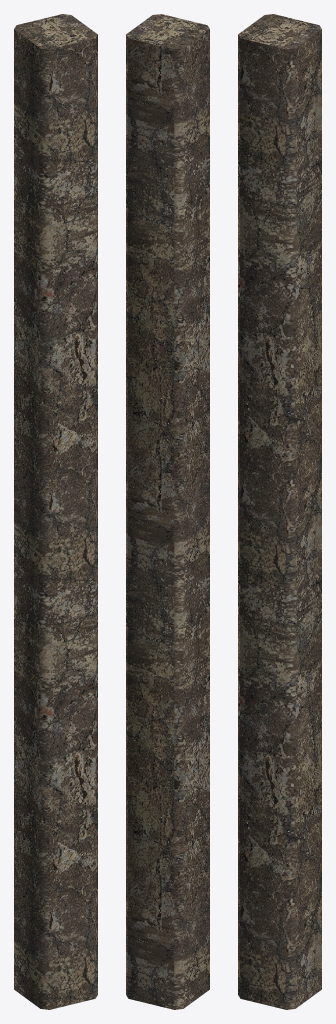
File: factory_concrete_pillar.DAE
The picture shows the model from 3 angles, left to right: view 1: azimuth 30°, elevation 25°; view 2: azimuth 150°, elevation 25°; view 3: azimuth 330°, elevation 25°; orthographic projection.
Visible parts, largest first — view 1: Box066; view 2: Box066; view 3: Box066.
Part boxes in pixels (x1,y1,x2,y2): Box066: (14,14,97,1009); Box066: (126,14,209,1009); Box066: (238,14,321,1009).
Bounding box in the file's own units: 0.25 × 4 × 0.25.
